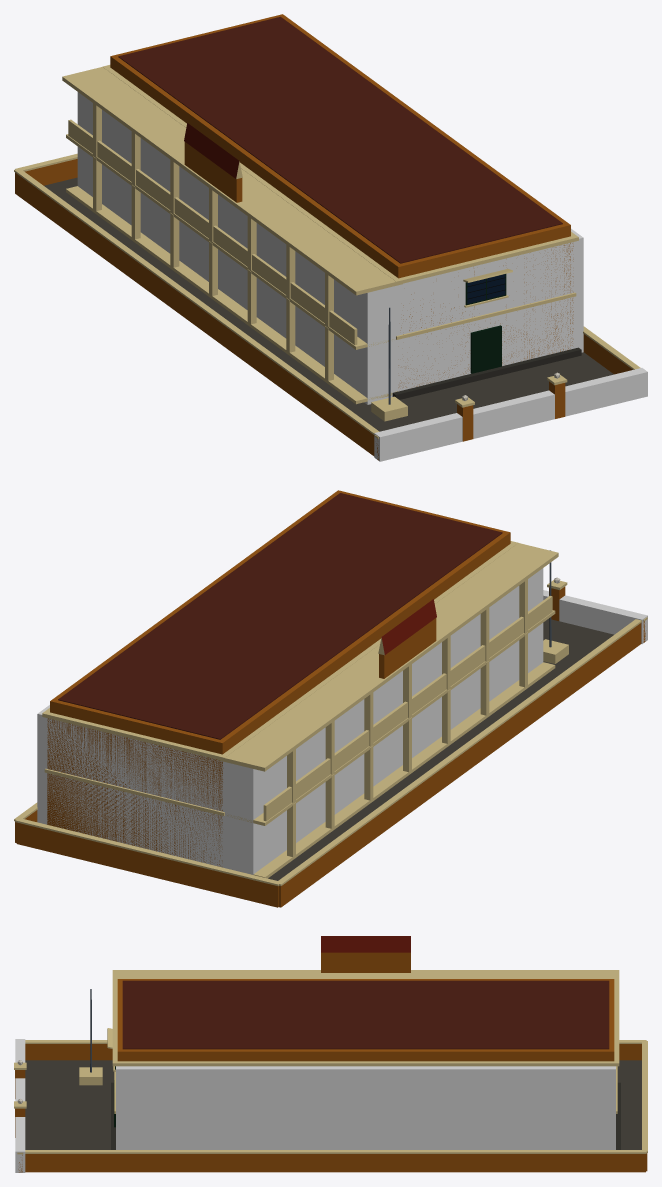
File: K10_govt_school.glb
3 renders of one model, top to bottom at view 1: azimuth 30°, elevation 25°; view 2: azimuth 150°, elevation 25°; view 3: azimuth 270°, elevation 25°, orthographic. The views are drawn at different scales.
Visible parts, largest first — view 1: LOD0, COL_Main, COL_Compound; view 2: LOD0, COL_Main, COL_Compound; view 3: LOD0, COL_Main, COL_Compound.
Boxes of the visible parts, x1=… form: LOD0: x1=14, y1=14, x2=640, y2=460; COL_Main: x1=77, y1=92, x2=583, y2=404; COL_Compound: x1=374, y1=368, x2=647, y2=461; LOD0: x1=14, y1=490, x2=647, y2=907; COL_Main: x1=37, y1=568, x2=543, y2=874; COL_Compound: x1=543, y1=590, x2=647, y2=643; LOD0: x1=14, y1=936, x2=647, y2=1172; COL_Main: x1=116, y1=1066, x2=615, y2=1149; COL_Compound: x1=15, y1=1039, x2=25, y2=1172.
Size of what is drawn, in the model's own units: 16.08 by 9.25 by 38.06.
